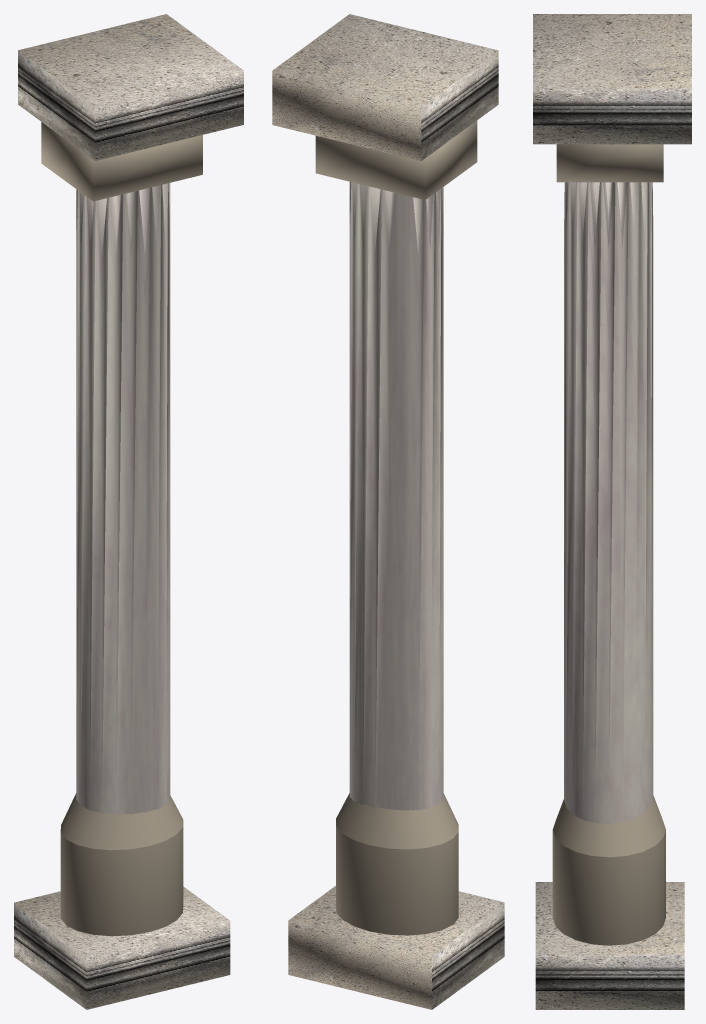
File: pillar1.fbx
3 views of the same model, side by side, from view 1: azimuth 30°, elevation 25°; view 2: azimuth 150°, elevation 25°; view 3: azimuth 270°, elevation 25° (orthographic). The views are drawn at different scales.
Visible parts, largest first — view 1: polySurface29; view 2: polySurface29; view 3: polySurface29.
Boxes of the visible parts, left/top/right/bottom form: polySurface29: left=14, top=14, right=243, bottom=1009; polySurface29: left=272, top=14, right=504, bottom=1009; polySurface29: left=533, top=14, right=691, bottom=1009.
Size of the model in its own units: 1.97 by 10.86 by 1.69.
5 materials, 3 textured.
